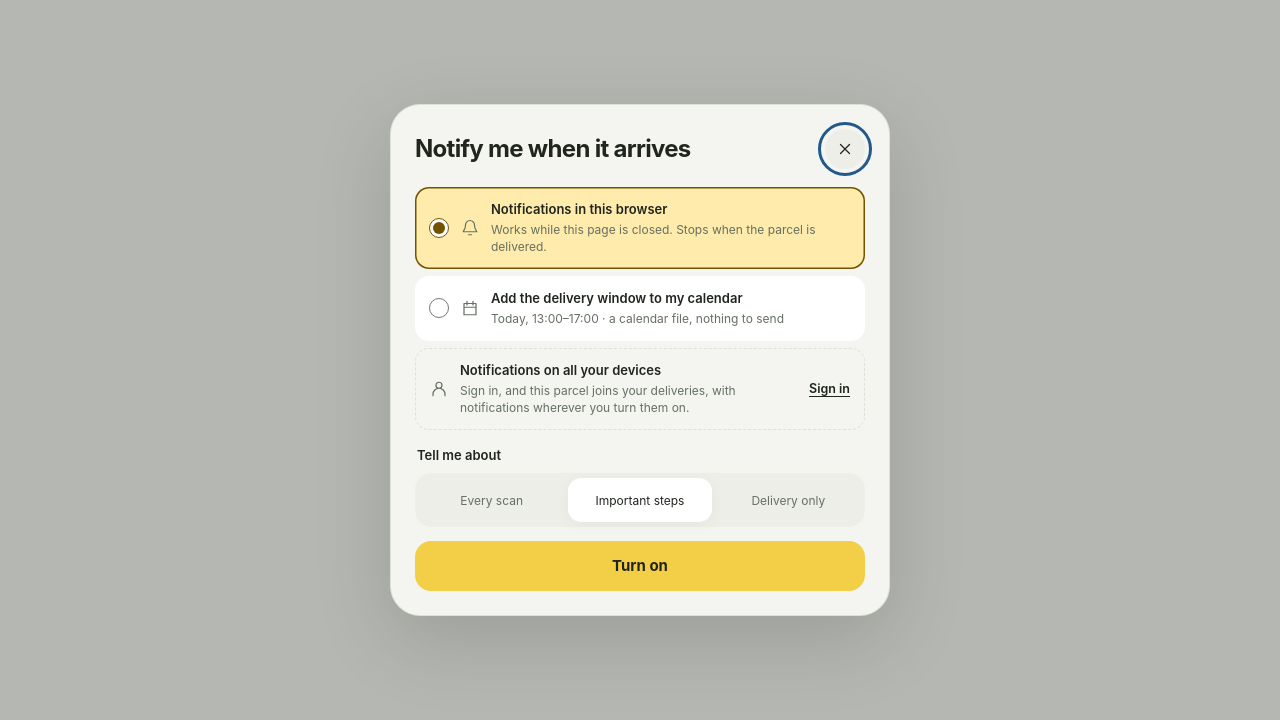
Test: the Notify me sheet › says why the server refused: {"kind":"full","name":"ParcelLinkError","retryAfterSeconds":null,"guidance":null}
Click the button "Turn on".
click(640, 566)  # box [415,542,865,592]
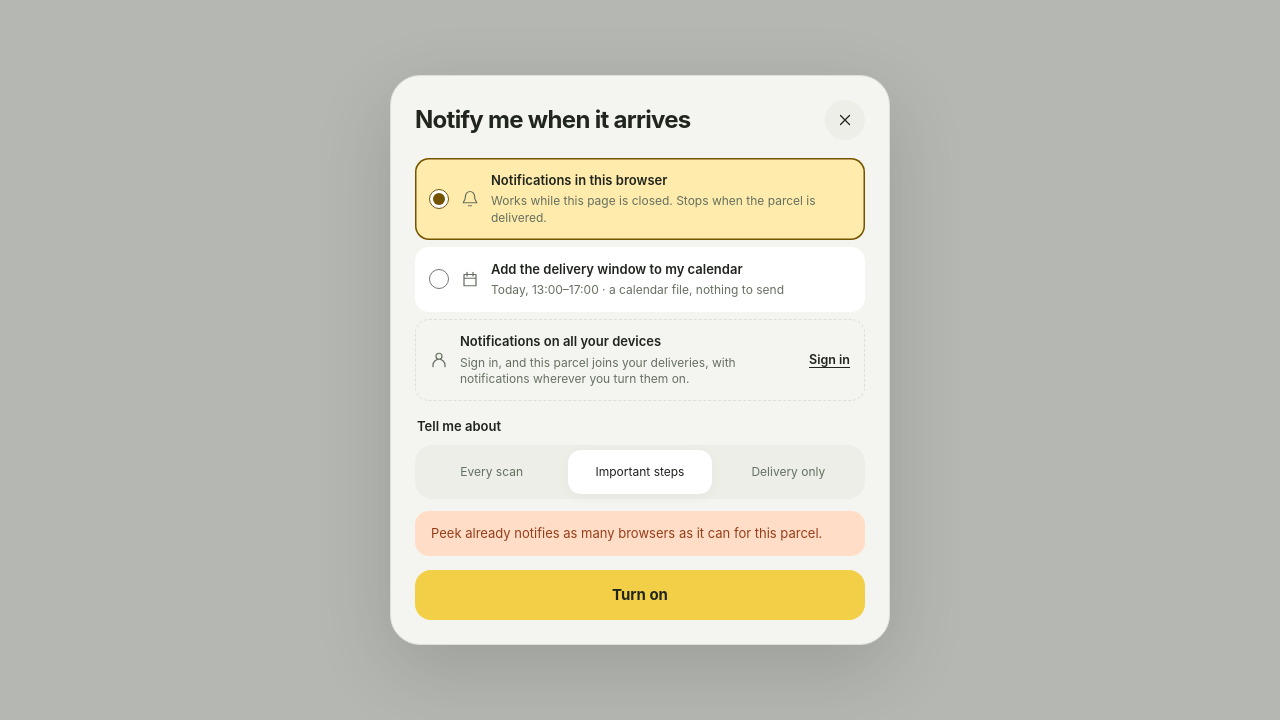
Expected: the button "Turn on" is enabled, [415,570,865,620]
Now the message reads "Peek already notifies as many browsers as it can for this parcel.", box [431,525,822,541]
